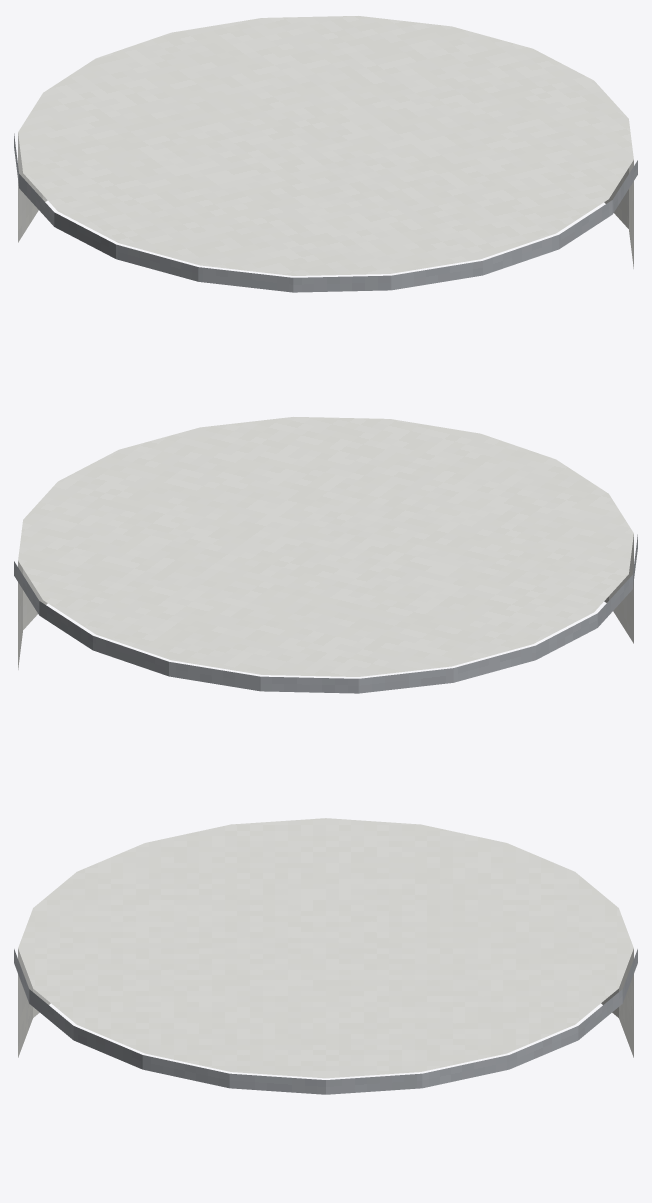
The model's file is mannequin_plinth.glb.
3 renders of one model, top to bottom at view 1: azimuth 30°, elevation 25°; view 2: azimuth 150°, elevation 25°; view 3: azimuth 270°, elevation 25°, orthographic.
Parts seen in each view (by area): view 1: mannequin_plinth; view 2: mannequin_plinth; view 3: mannequin_plinth.
Boxes of the visible parts, x1,y1,x2,y2 form: mannequin_plinth: [14, 16, 637, 292]; mannequin_plinth: [14, 417, 637, 693]; mannequin_plinth: [14, 818, 637, 1094].
Size of the model in its own units: 0.77 by 0.15 by 0.77.
Materials: 2 (2 with a texture image).
